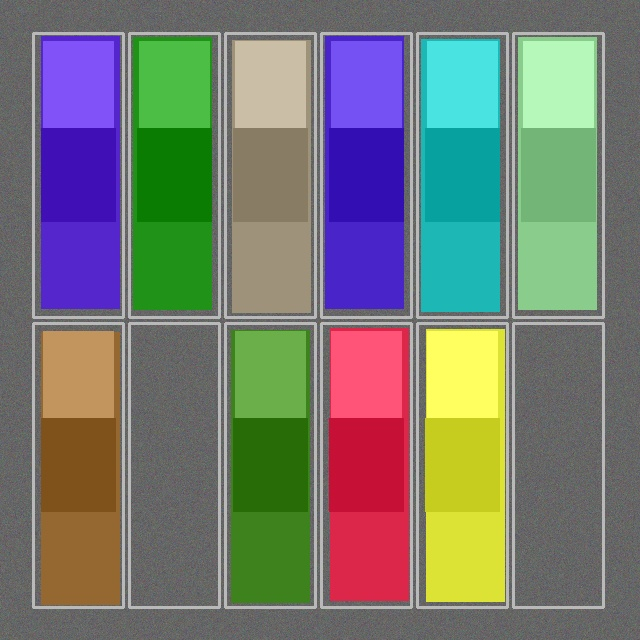space-empty: (131, 325, 217, 605), (515, 325, 601, 605)
space-occupied: (35, 35, 121, 315), (131, 35, 217, 315), (227, 35, 313, 315), (323, 35, 409, 315), (419, 35, 505, 315), (515, 35, 601, 315), (35, 325, 121, 605), (227, 325, 313, 605), (323, 325, 409, 605), (419, 325, 505, 605)
